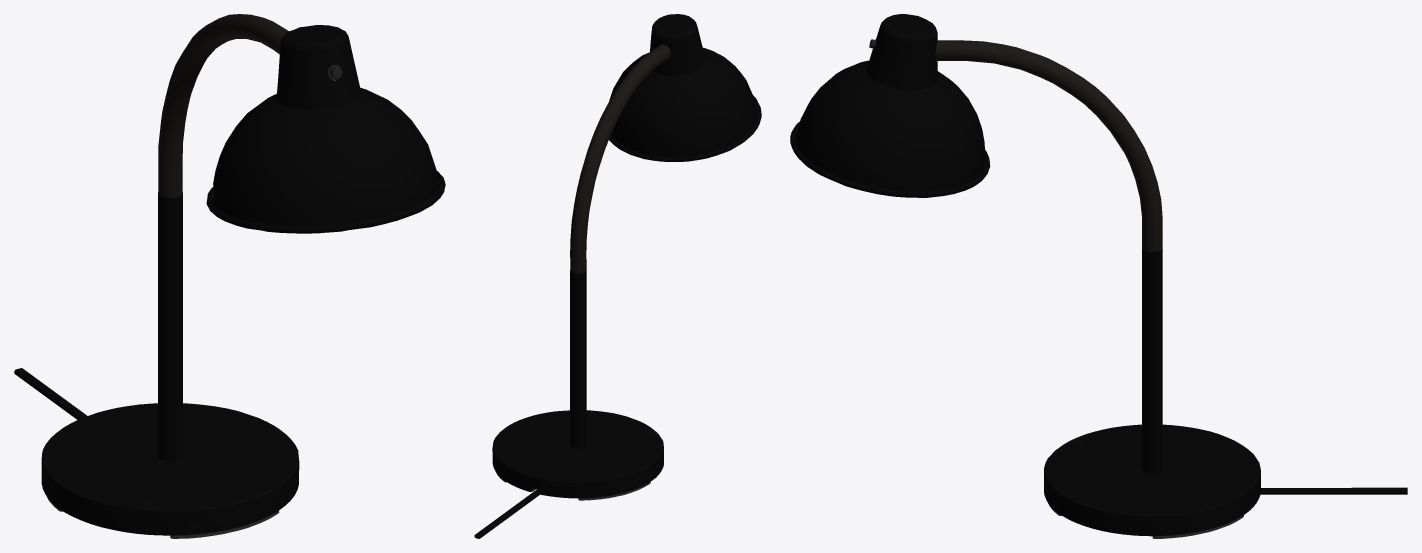
3 views of the same model, side by side, from view 1: azimuth 30°, elevation 25°; view 2: azimuth 150°, elevation 25°; view 3: azimuth 270°, elevation 25° (orthographic). The views are drawn at different scales.
Parts seen in each view (by area): view 1: 80516778; view 2: 80516778; view 3: 80516778.
Boxes of the visible parts, x1=… form: 80516778: x1=14, y1=14, x2=445, y2=538; 80516778: x1=474, y1=14, x2=761, y2=538; 80516778: x1=790, y1=14, x2=1407, y2=538.
Size of the model in its own units: 0.1699 by 0.4079 by 0.4837.
1 material, 1 textured.
